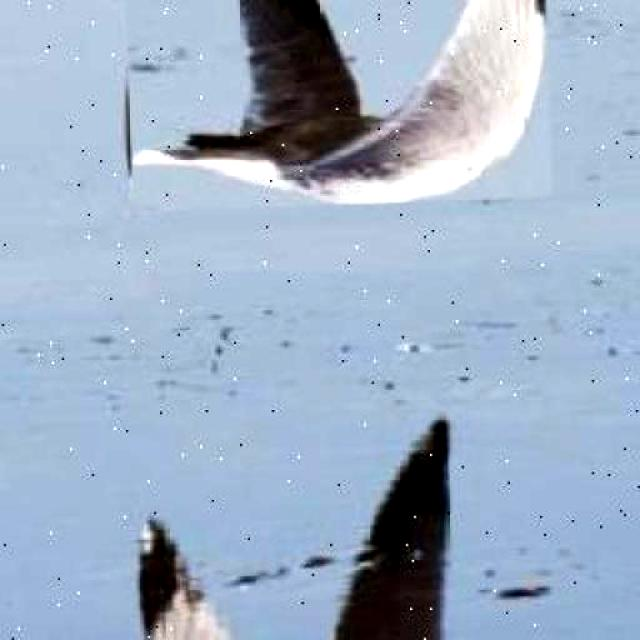airplane: (120, 0, 552, 210)
